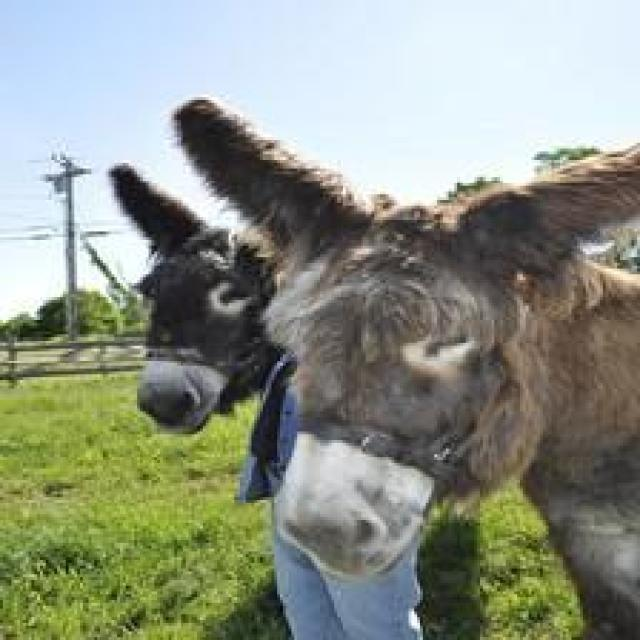Donkey: (172, 94, 637, 637), (49, 70, 360, 459)
